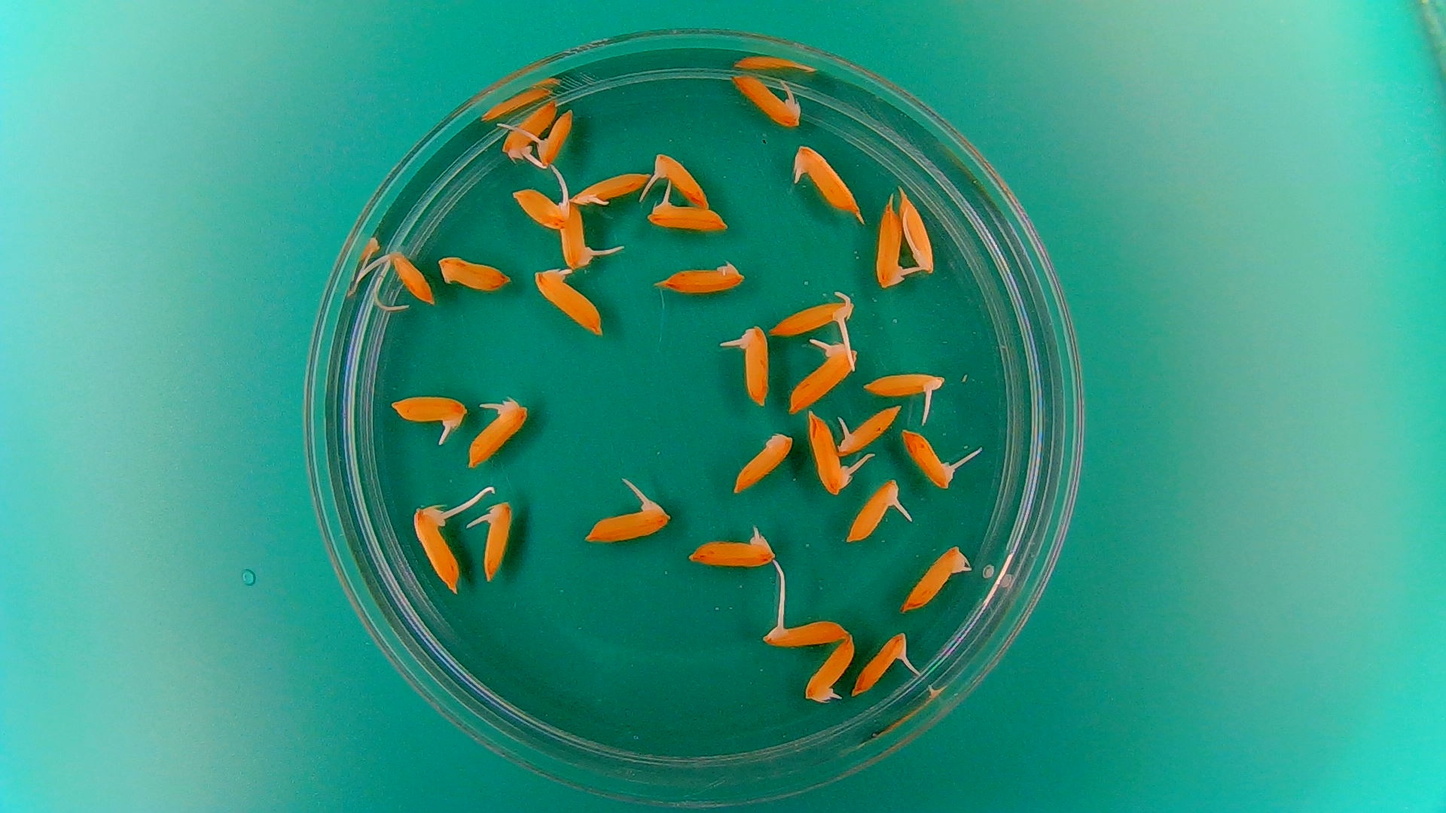no: (731, 429, 796, 495), (654, 257, 746, 297), (438, 253, 514, 292)
yes: (532, 264, 606, 337), (796, 146, 865, 221), (897, 543, 966, 613), (465, 399, 532, 471), (789, 339, 856, 411), (728, 72, 804, 130), (850, 630, 911, 699), (767, 292, 854, 338), (414, 507, 461, 591), (845, 477, 902, 544), (580, 500, 666, 544), (648, 149, 713, 207), (801, 634, 856, 702), (375, 246, 436, 307), (874, 190, 911, 288), (899, 426, 956, 489), (837, 403, 905, 454), (897, 190, 937, 276), (685, 531, 773, 570), (500, 97, 560, 154), (809, 414, 850, 497), (731, 327, 773, 408), (646, 194, 731, 234), (570, 167, 651, 207), (390, 390, 470, 429), (760, 615, 845, 650), (477, 504, 514, 580), (509, 185, 569, 230), (533, 107, 575, 167), (864, 370, 945, 400), (562, 206, 596, 273)
